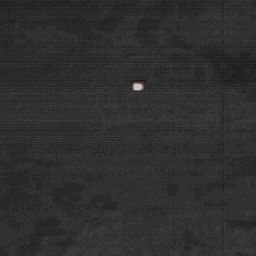Target: (131, 81, 144, 92)
